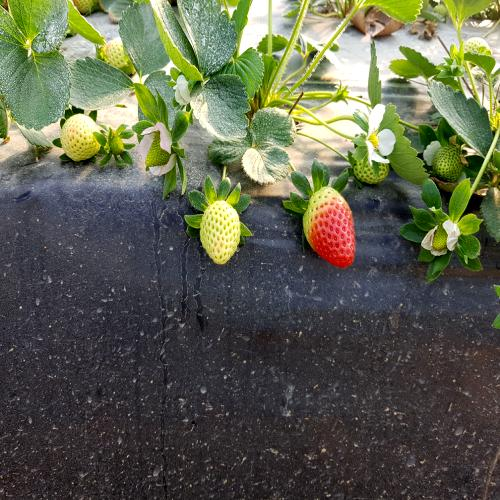partially-ripe: (299, 173, 357, 279)
